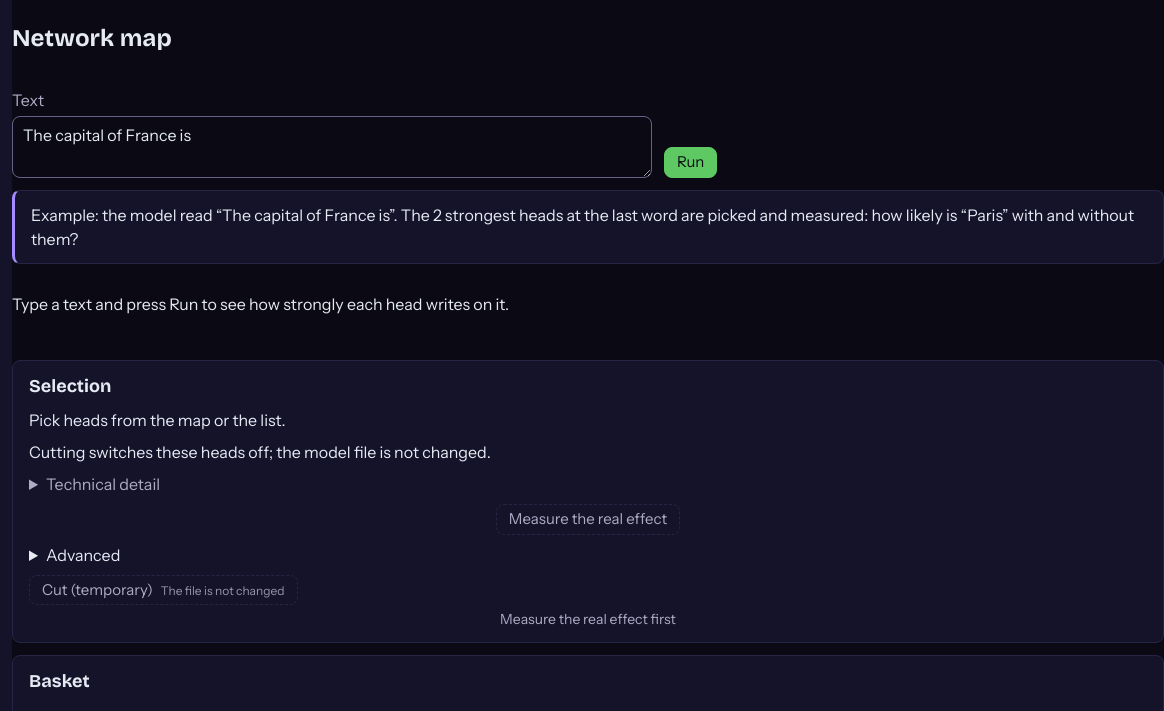
Test: typing their own text hides the example note
Expected: the text "The 2 strongest heads" is shown, [31,205,1134,249]
Type "x" into the text box labelled "Text" at (332, 147), box [12,116,652,178]
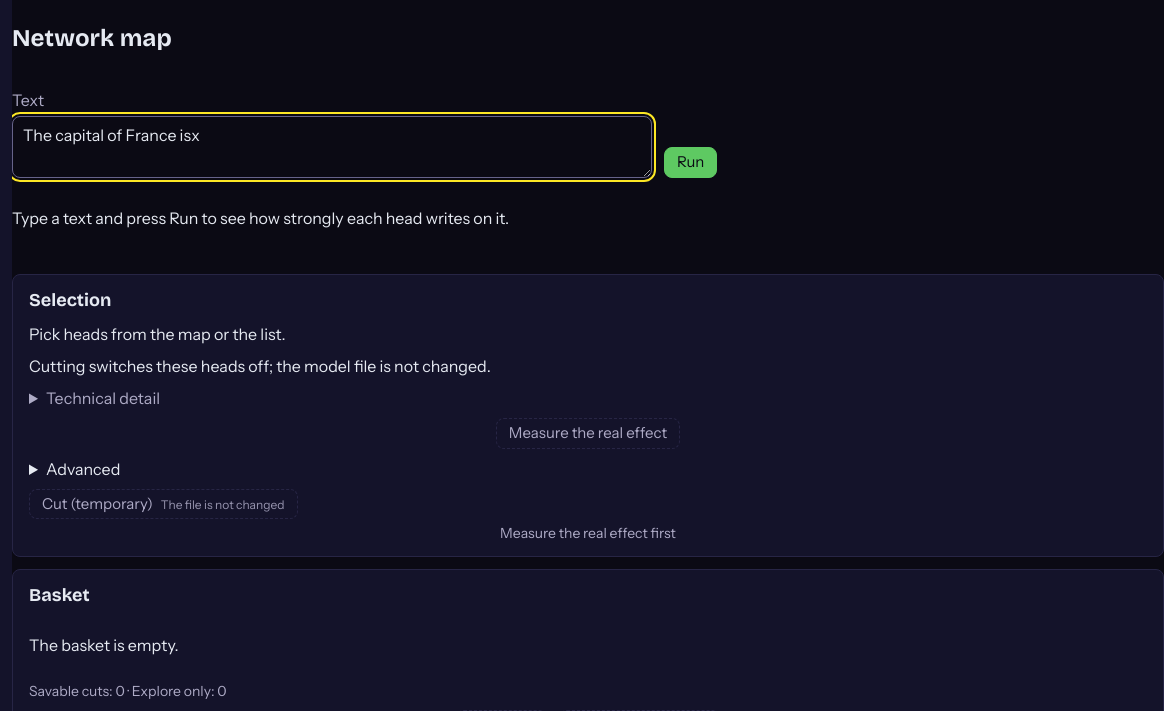
Result: the text "The 2 strongest heads" is gone
